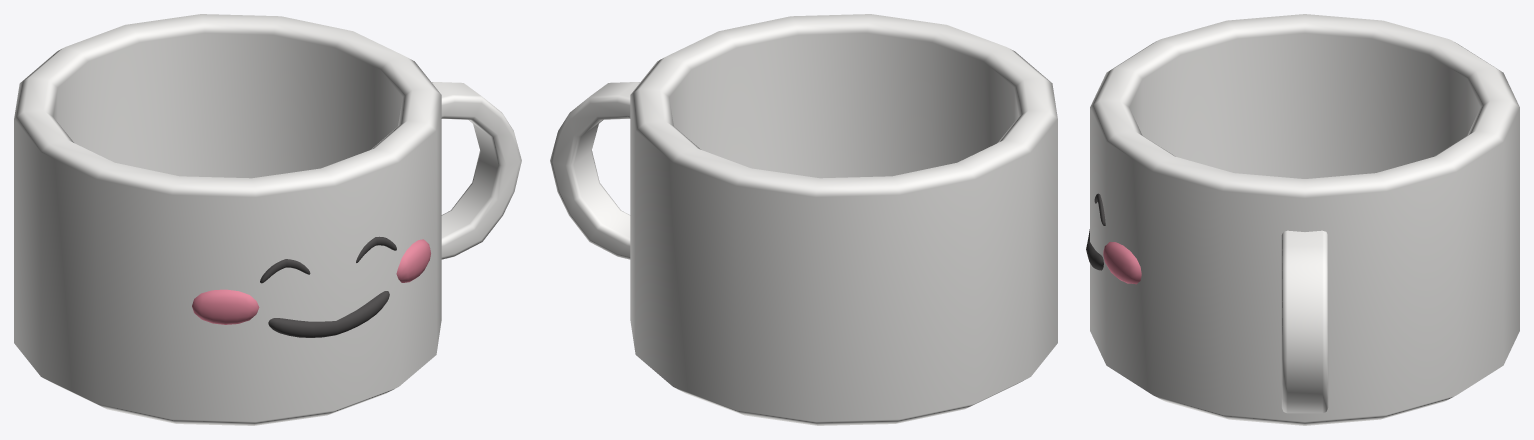
Rendered from Cup_1.glb.
The picture shows the model from 3 angles, left to right: view 1: azimuth 30°, elevation 25°; view 2: azimuth 150°, elevation 25°; view 3: azimuth 270°, elevation 25°; orthographic projection.
Parts seen in each view (by area): view 1: Cup_1; view 2: Cup_1; view 3: Cup_1.
Boxes of the visible parts, bbox=[...] form: Cup_1: bbox=[14, 14, 521, 425]; Cup_1: bbox=[550, 14, 1057, 425]; Cup_1: bbox=[1086, 14, 1519, 425].
Bounding box in the file's own units: 0.2517 × 0.1237 × 0.2013.
1 material, 1 textured.
